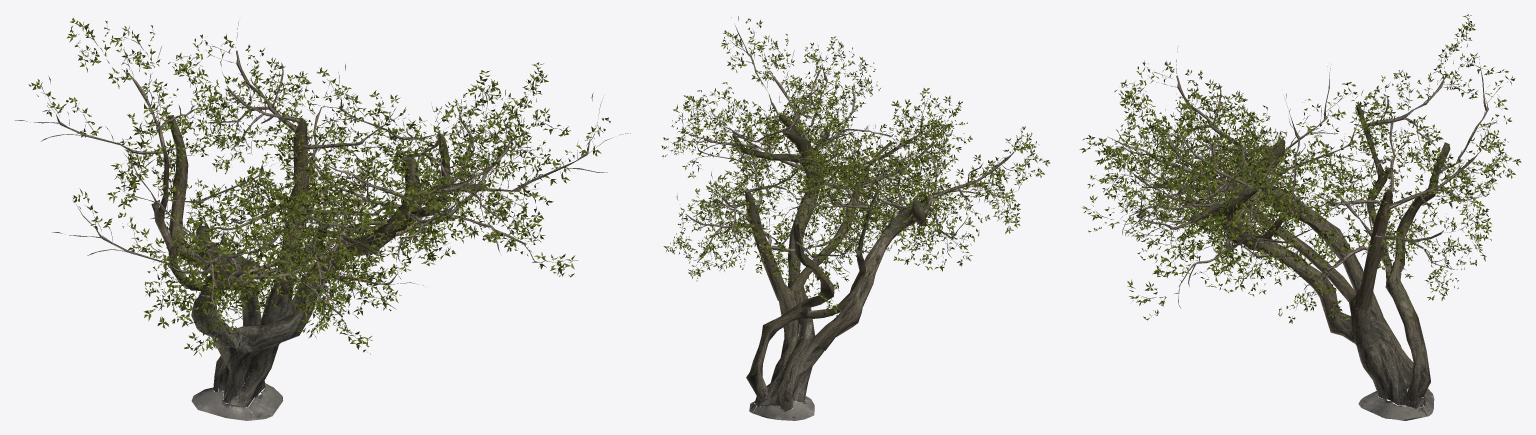
Rendered from Core_Tree.glb.
3 renders of one model, left to right at view 1: azimuth 30°, elevation 25°; view 2: azimuth 150°, elevation 25°; view 3: azimuth 270°, elevation 25°, orthographic. The views are drawn at different scales.
Parts seen in each view (by area): view 1: Leaves, Fine branches, Main branches; view 2: Leaves, Main branches, Fine branches; view 3: Leaves, Main branches, Fine branches.
Part boxes in pixels (bbox=[...]): Leaves: bbox=[28, 18, 610, 356]; Fine branches: bbox=[15, 22, 630, 350]; Main branches: bbox=[151, 115, 485, 420]; Leaves: bbox=[661, 18, 1050, 319]; Main branches: bbox=[732, 113, 933, 420]; Fine branches: bbox=[666, 16, 1038, 314]; Leaves: bbox=[1079, 14, 1521, 325]; Main branches: bbox=[1155, 103, 1450, 420]; Fine branches: bbox=[1087, 28, 1509, 319].
Bounding box in the file's own units: 4.2 × 3.4 × 4.07.
3 materials, 3 textured.
